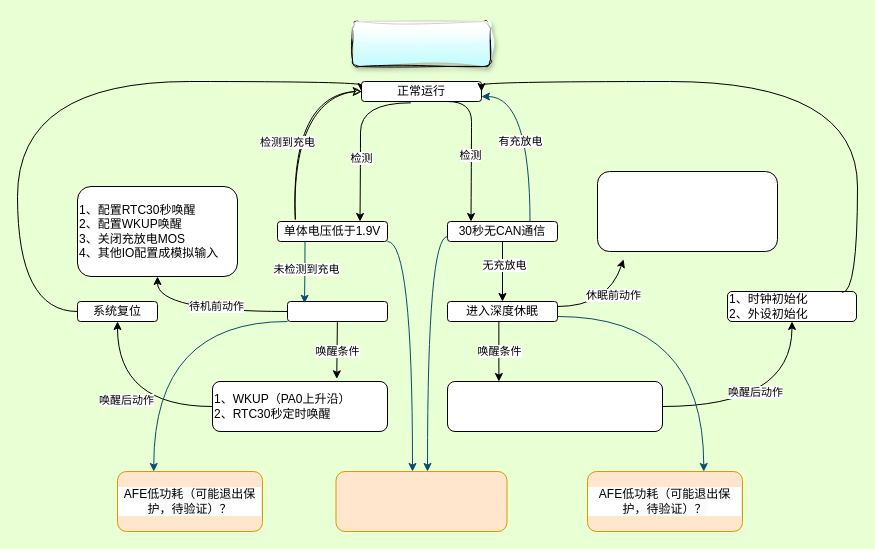
Image size: 875x549. Some labels were removed from this diagram. Each missing label, with the centre of its shape:
1、CAN通讯（PC13下降沿） 2、WKUP（PA0 上升沿 ） 3、 充电器 CHG_DETE（PB9高变低）: the point at 554,406
1、关闭充放电MOS 2、配置唤醒脚功能 3、其他IO配置成配置成IO模拟输入: the point at 687,211
低功耗逻辑流程图: the point at 422,45
此时如果检测到充电器在线却没有充电的情况如何处理？: the point at 421,501
进入待机模式: the point at 337,311
